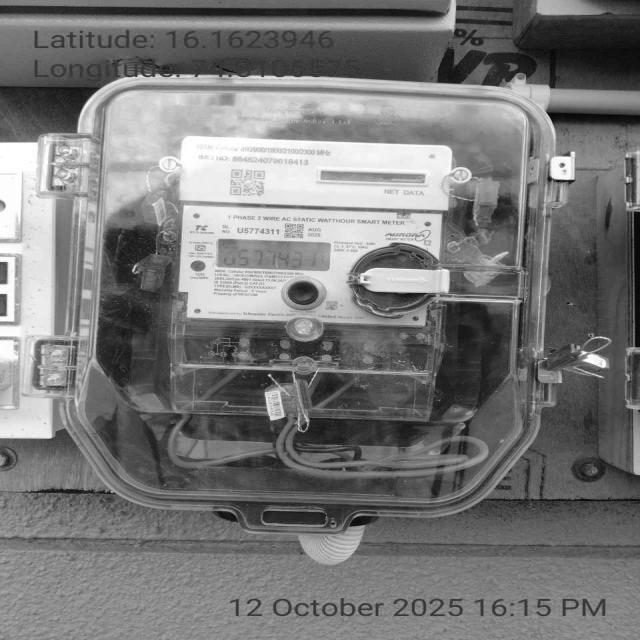meter: (178, 135, 441, 332)
